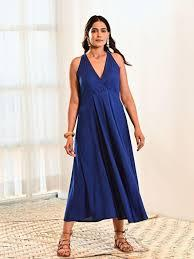dress: (56, 49, 153, 225)
